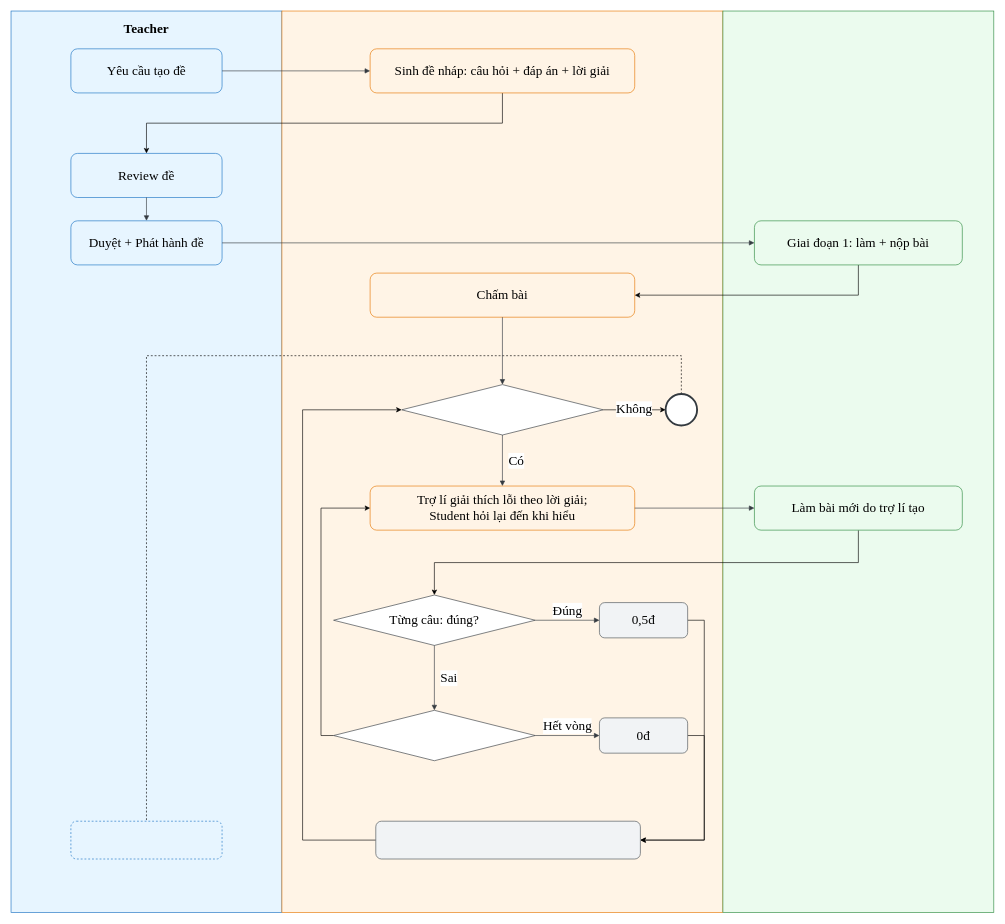
Some shapes in this 1005 by 924 pixel diagram are drawn without their labels. The box of each missing label's shape, as (x1, y1, x2, y2) in pixels:
Chốt điểm: (375, 821, 640, 859)
Còn câu sai chưa chốt?: (401, 384, 603, 435)
Còn vòng?: (333, 710, 535, 761)
Student: (722, 10, 994, 913)
System/AI: (281, 10, 723, 913)
Xem báo cáo trợ lí giải thích chưa rõ: (70, 821, 222, 859)
